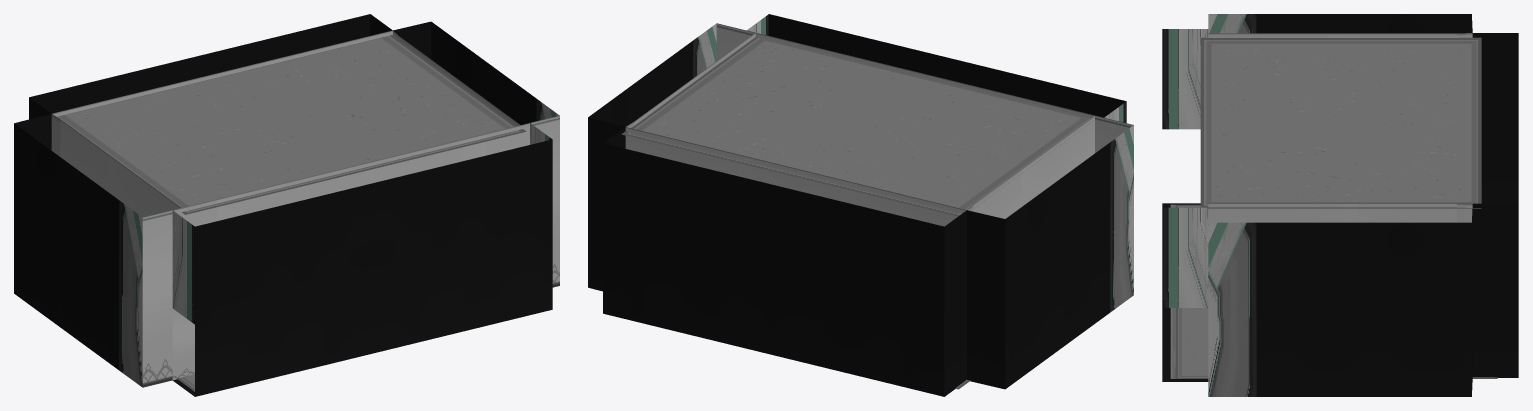
Rendered from room1.fbx.
3 views of the same model, side by side, from view 1: azimuth 30°, elevation 25°; view 2: azimuth 150°, elevation 25°; view 3: azimuth 270°, elevation 25° (orthographic). The views are drawn at different scales.
Visible parts, largest first — view 1: Walls1, Plane; view 2: Walls1, Plane; view 3: Walls1, Plane, GroundStairs.
Part boxes in pixels (x1,y1,x2,y2): Walls1: [14, 14, 559, 396]; Plane: [57, 35, 526, 214]; Walls1: [588, 14, 1133, 396]; Plane: [621, 37, 1091, 216]; Walls1: [1162, 14, 1518, 396]; Plane: [1200, 37, 1481, 208]; GroundStairs: [1170, 204, 1497, 378].
Size of the model in its own units: 2144 by 837 by 1549.
